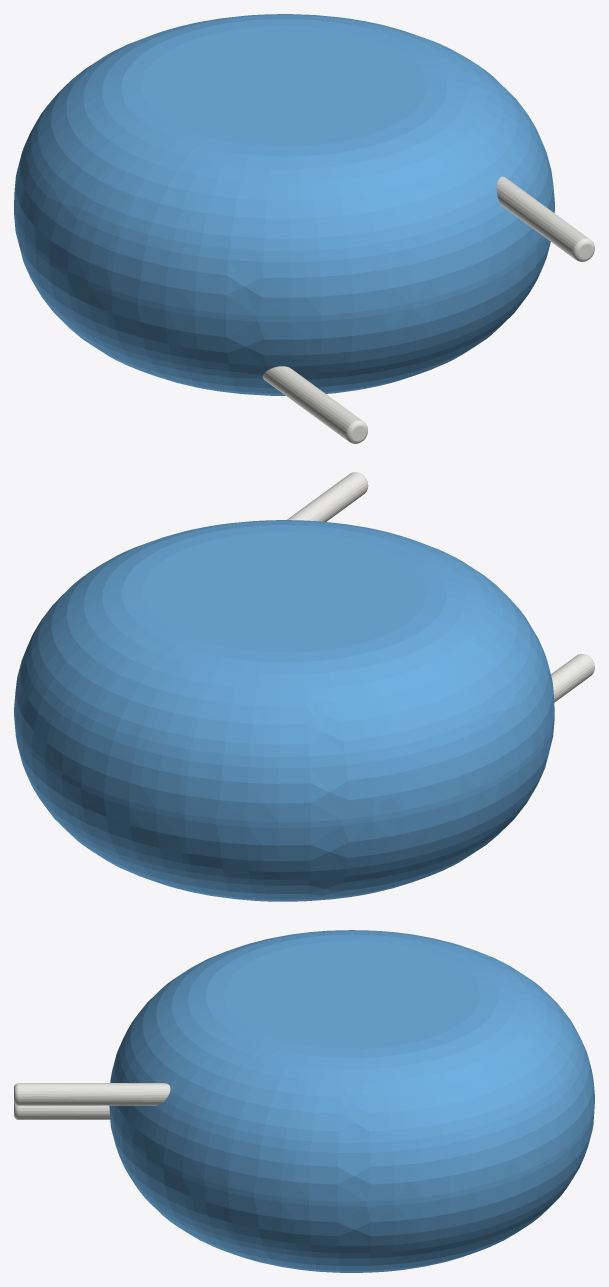
Rendered from RV_Disc_D15.5mm_W7.5mm_P7.5mm.glb.
3 views of the same model, one above another, from view 1: azimuth 30°, elevation 25°; view 2: azimuth 150°, elevation 25°; view 3: azimuth 270°, elevation 25° (orthographic). The views are drawn at different scales.
Visible parts, largest first — view 1: Shape_IndexedFaceSet.001, Shape_IndexedFaceSet.002, Shape_IndexedFaceSet.003, Shape_IndexedFaceSet, Shape_IndexedFaceSet.004, Shape_IndexedFaceSet.006; view 2: Shape_IndexedFaceSet.001, Shape_IndexedFaceSet.002, Shape_IndexedFaceSet.003, Shape_IndexedFaceSet, Shape_IndexedFaceSet.004, Shape_IndexedFaceSet.006; view 3: Shape_IndexedFaceSet.001, Shape_IndexedFaceSet.002, Shape_IndexedFaceSet.003, Shape_IndexedFaceSet.004, Shape_IndexedFaceSet, Shape_IndexedFaceSet.006.
Part boxes in pixels (x1,y1,x2,y2): Shape_IndexedFaceSet.001: (14, 14, 554, 316); Shape_IndexedFaceSet.002: (14, 210, 554, 395); Shape_IndexedFaceSet.003: (141, 26, 426, 146); Shape_IndexedFaceSet: (14, 204, 554, 322); Shape_IndexedFaceSet.004: (496, 176, 588, 258); Shape_IndexedFaceSet.006: (262, 366, 362, 440); Shape_IndexedFaceSet.001: (14, 520, 554, 822); Shape_IndexedFaceSet.002: (14, 716, 554, 901); Shape_IndexedFaceSet.003: (142, 532, 427, 652); Shape_IndexedFaceSet: (14, 710, 554, 827); Shape_IndexedFaceSet.004: (287, 472, 367, 521); Shape_IndexedFaceSet.006: (551, 654, 594, 702); Shape_IndexedFaceSet.001: (110, 930, 594, 1201); Shape_IndexedFaceSet.002: (109, 1108, 594, 1272); Shape_IndexedFaceSet.003: (224, 940, 479, 1048); Shape_IndexedFaceSet.004: (18, 1083, 170, 1105); Shape_IndexedFaceSet: (109, 1098, 594, 1206); Shape_IndexedFaceSet.006: (18, 1105, 110, 1119).
Size of the model in its own units: 6.1 by 2.95 by 7.29.
